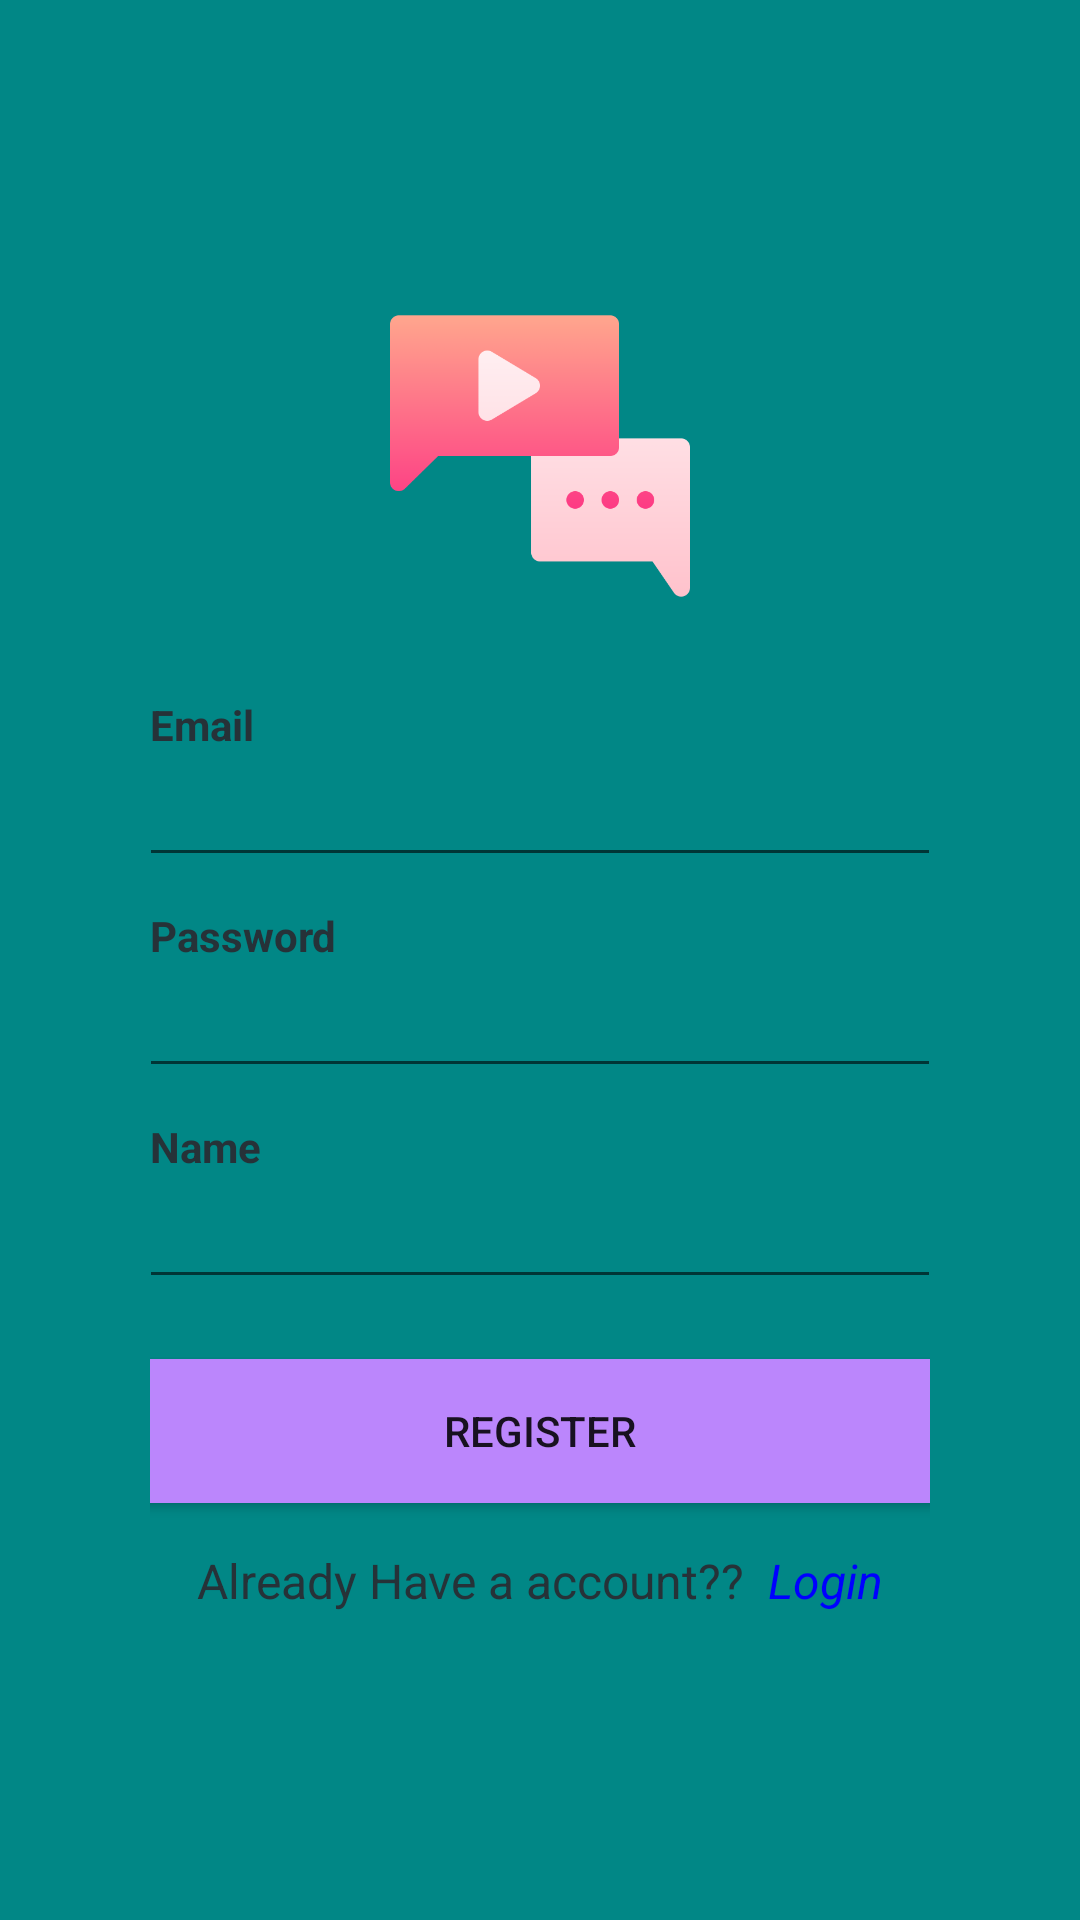

Where icons sit on this 1080 × 1920 app screen, as (x1, y1, x2, y2):
chat: (390, 315, 690, 597)
